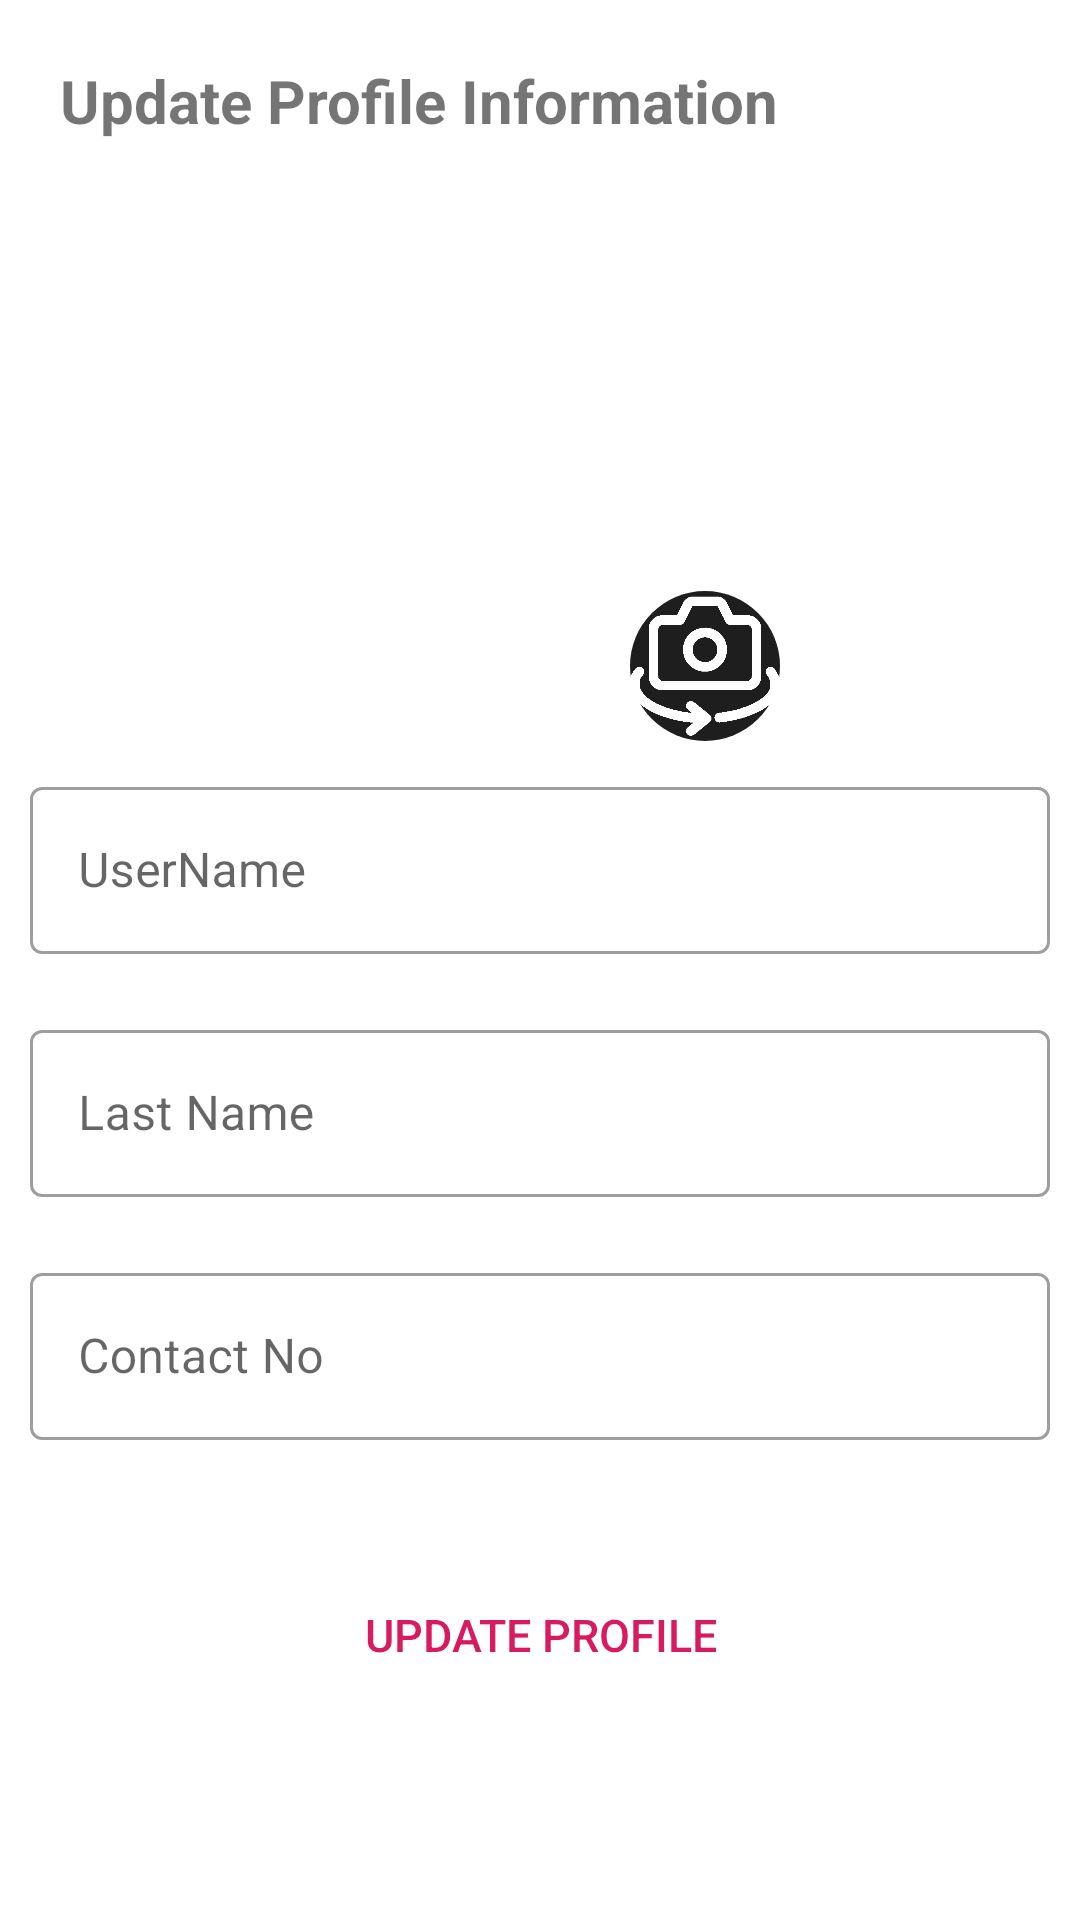

Screen size 1080*1920. Icon name, then its center in pixels as (x=x, y=y):
flip: (x=705, y=666)
